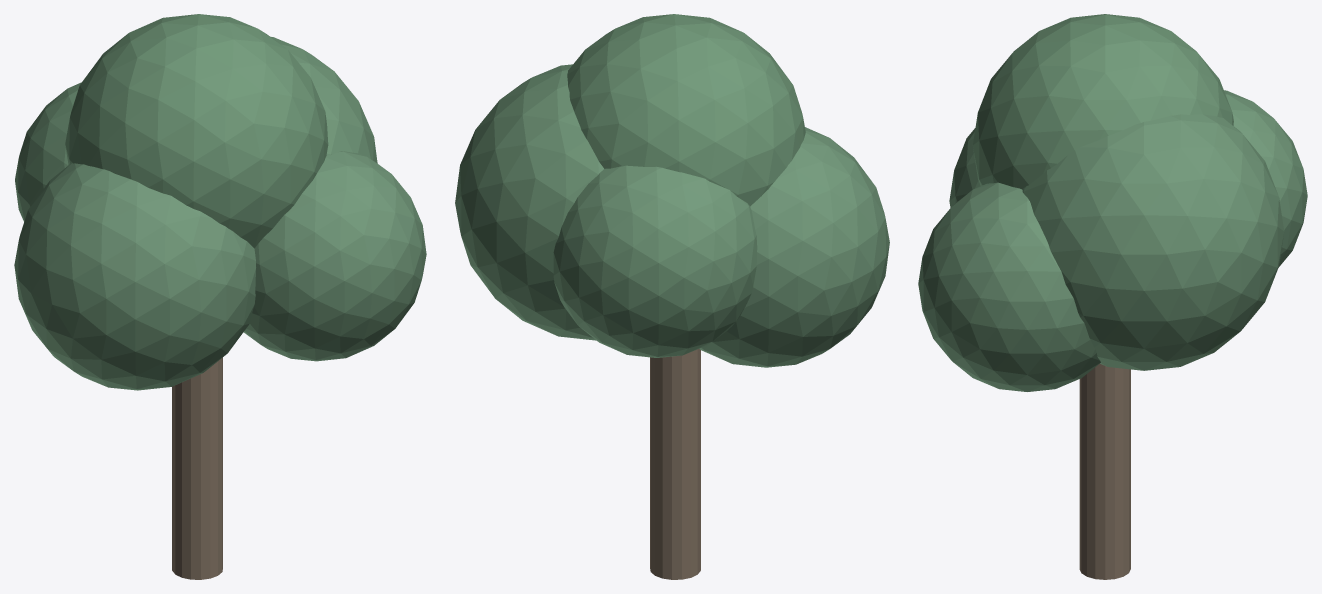
Rendered from street_tree.glb.
3 renders of one model, left to right at view 1: azimuth 30°, elevation 25°; view 2: azimuth 150°, elevation 25°; view 3: azimuth 270°, elevation 25°, orthographic.
Visible parts, largest first — view 1: m3, m1, m5, m0, m4, m2; view 2: m3, m4, m1, m2, m0; view 3: m2, m3, m5, m0, m4, m1.
Boxes of the visible parts, x1=… form: m3: x1=65, y1=14, x2=328, y2=248; m1: x1=14, y1=163, x2=255, y2=390; m5: x1=243, y1=151, x2=426, y2=361; m0: x1=172, y1=357, x2=222, y2=579; m4: x1=15, y1=82, x2=81, y2=221; m2: x1=270, y1=36, x2=377, y2=163; m3: x1=567, y1=14, x2=805, y2=206; m4: x1=553, y1=165, x2=757, y2=357; m1: x1=699, y1=127, x2=889, y2=367; m2: x1=455, y1=64, x2=603, y2=340; m0: x1=650, y1=349, x2=700, y2=579; m2: x1=1022, y1=114, x2=1284, y2=370; m3: x1=972, y1=14, x2=1233, y2=189; m5: x1=918, y1=182, x2=1100, y2=391; m0: x1=1079, y1=364, x2=1130, y2=579; m4: x1=1224, y1=90, x2=1307, y2=267; m1: x1=949, y1=128, x2=980, y2=207.
Bounding box in the file's own units: 5.4 × 7.7 × 5.
